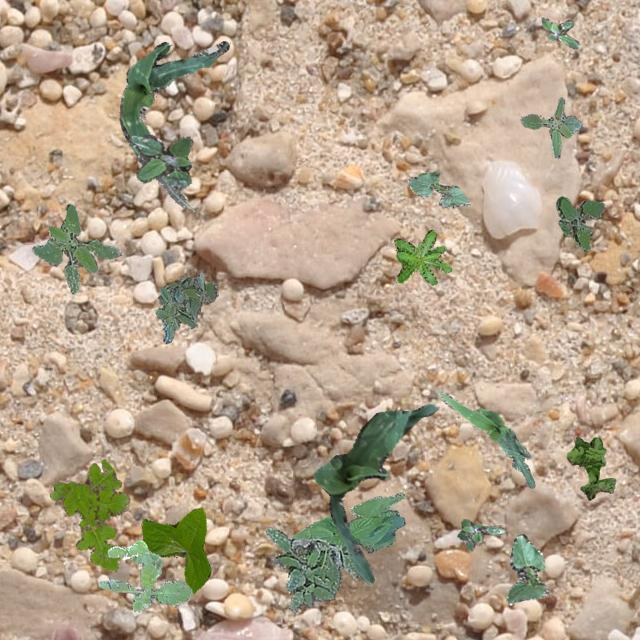crop: (313, 403, 437, 582), (119, 40, 228, 206), (438, 391, 534, 486), (290, 491, 404, 552), (142, 507, 210, 591), (504, 534, 548, 604), (406, 170, 469, 207)
weed: (48, 458, 128, 572), (30, 202, 120, 292), (264, 526, 358, 612), (98, 538, 190, 612), (154, 272, 218, 342), (520, 96, 582, 158), (130, 133, 192, 190), (394, 228, 451, 284), (566, 436, 614, 498), (554, 196, 604, 250), (456, 518, 504, 550), (542, 17, 578, 47)
